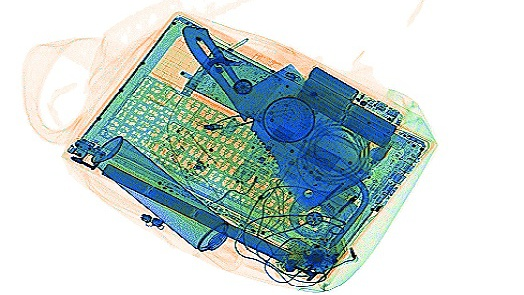knife: (178, 21, 372, 214)
powerbank: (291, 62, 406, 148)
pressure: (89, 134, 248, 272)
